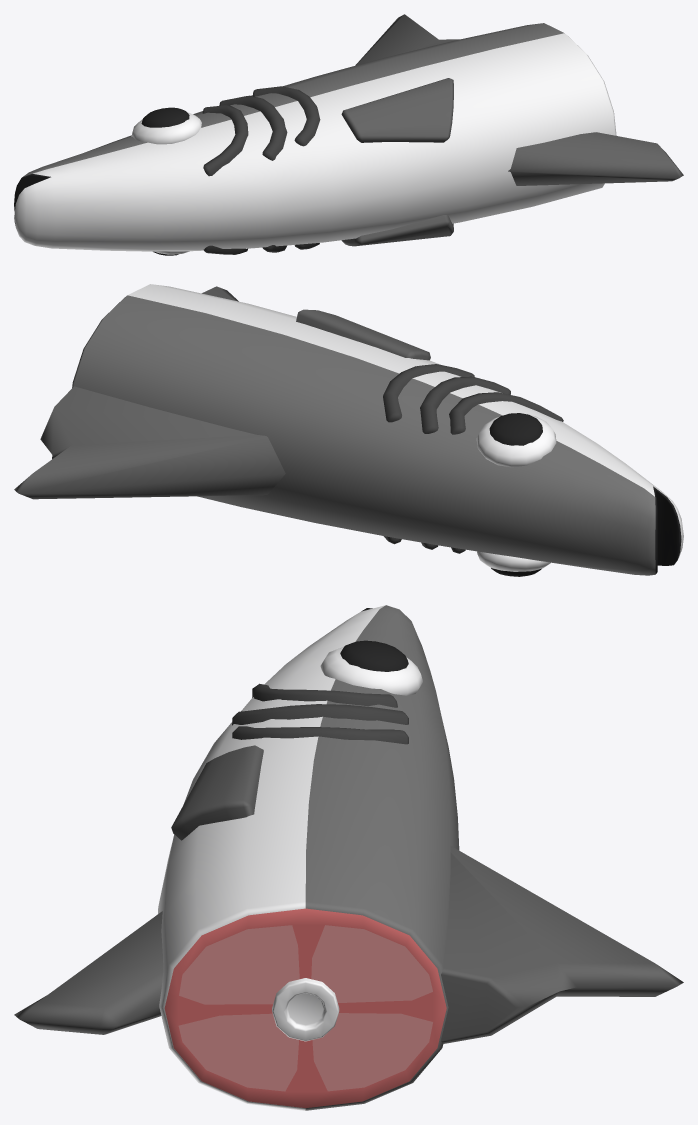
File: Sardine_3_Half_1.fbx
3 renders of one model, top to bottom at view 1: azimuth 30°, elevation 25°; view 2: azimuth 150°, elevation 25°; view 3: azimuth 270°, elevation 25°, orthographic. The views are drawn at different scales.
Parts seen in each view (by area): view 1: Sardine_3_Half_1; view 2: Sardine_3_Half_1; view 3: Sardine_3_Half_1.
Part boxes in pixels (x1,y1,x2,y2): Sardine_3_Half_1: [14, 14, 683, 255]; Sardine_3_Half_1: [14, 284, 683, 576]; Sardine_3_Half_1: [14, 605, 683, 1110].
Bounding box in the file's own units: 15.26 × 4.1 × 11.2.
